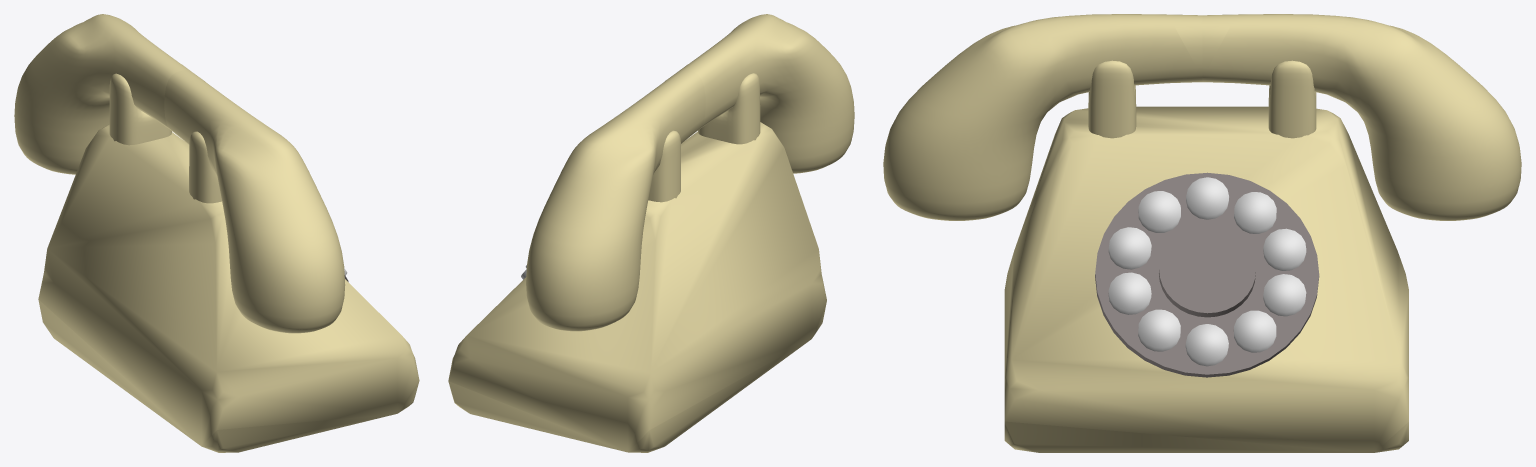
The model's file is telephone.fbx.
3 renders of one model, left to right at view 1: azimuth 30°, elevation 25°; view 2: azimuth 150°, elevation 25°; view 3: azimuth 270°, elevation 25°, orthographic. The views are drawn at different scales.
Parts seen in each view (by area): view 1: Cube, Circle, Cube.001; view 2: Cube, Circle, Cube.001; view 3: Cube, Circle, Circle.001, Cylinder, Cube.001.
Boxes of the visible parts, <box> form: Cube: <box>38,124,419,452</box>; Circle: <box>14,14,345,333</box>; Cube.001: <box>109,73,221,203</box>; Cube: <box>448,122,826,452</box>; Circle: <box>526,14,854,331</box>; Cube.001: <box>648,73,760,202</box>; Cube: <box>1004,106,1408,452</box>; Circle: <box>883,14,1521,220</box>; Circle.001: <box>1095,172,1319,377</box>; Cylinder: <box>1108,177,1306,366</box>; Cube.001: <box>1088,60,1316,138</box>.
Size of the model in its own units: 221 by 324 by 532.
